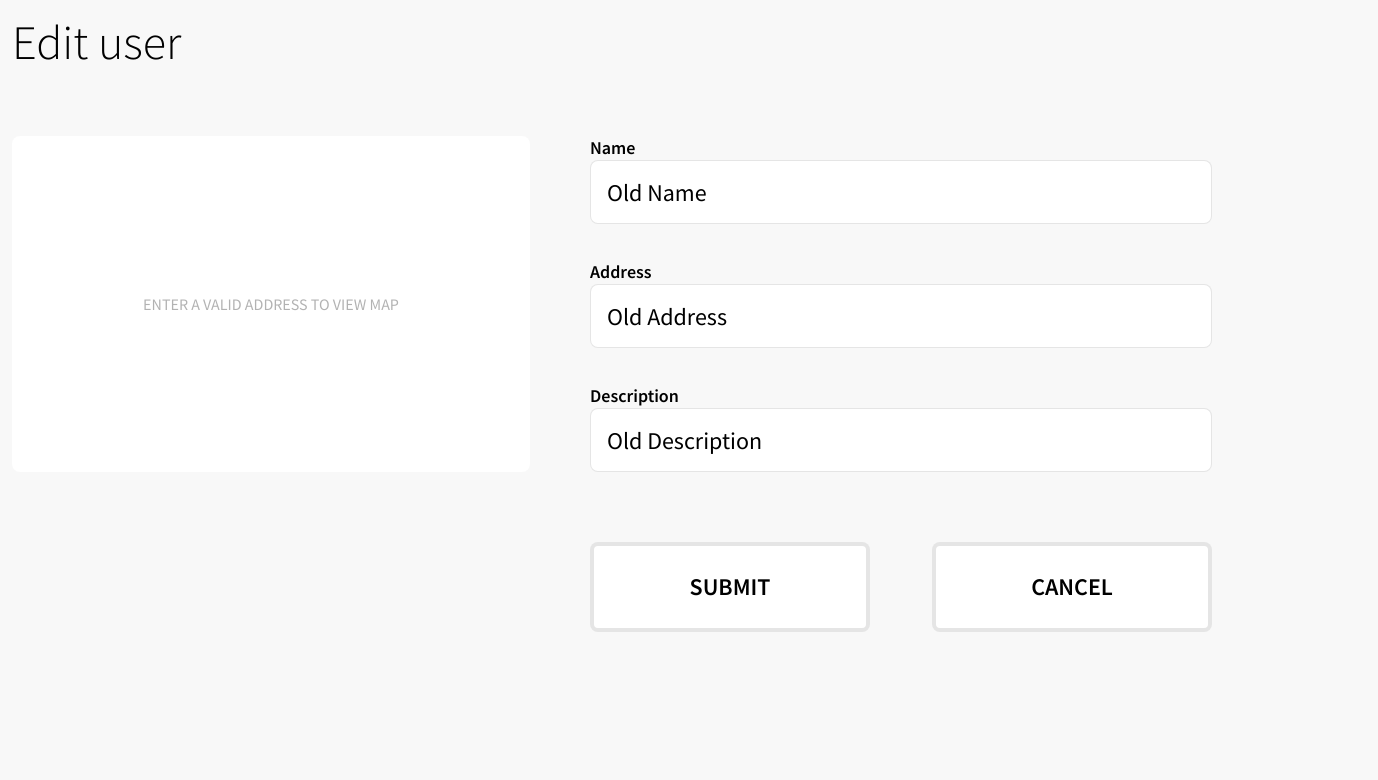
Scenario: prevents an invalid form from being saved
Clear the field with test id "user_field_name": (901, 192) [590,160,1212,224]
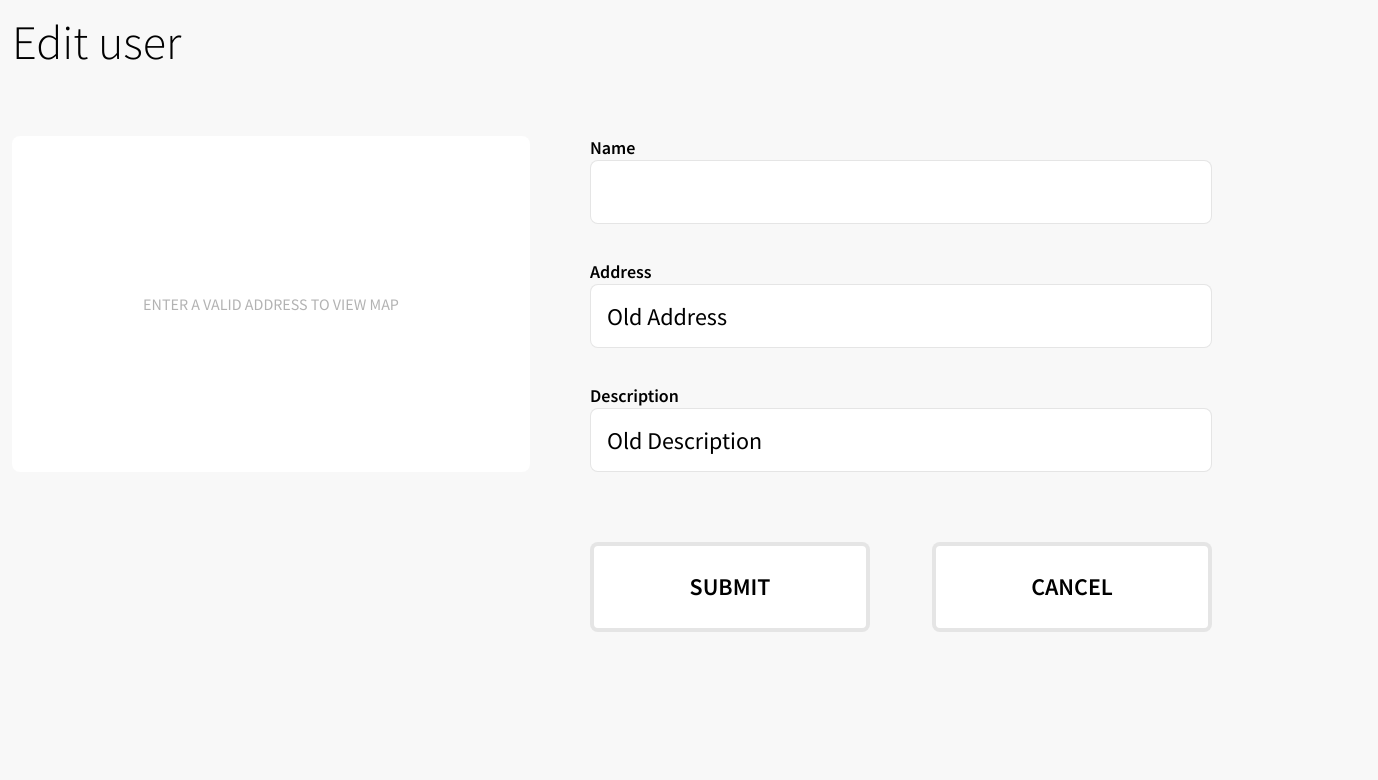
Submit the form with test id "user_form", box [590,136,1212,632]
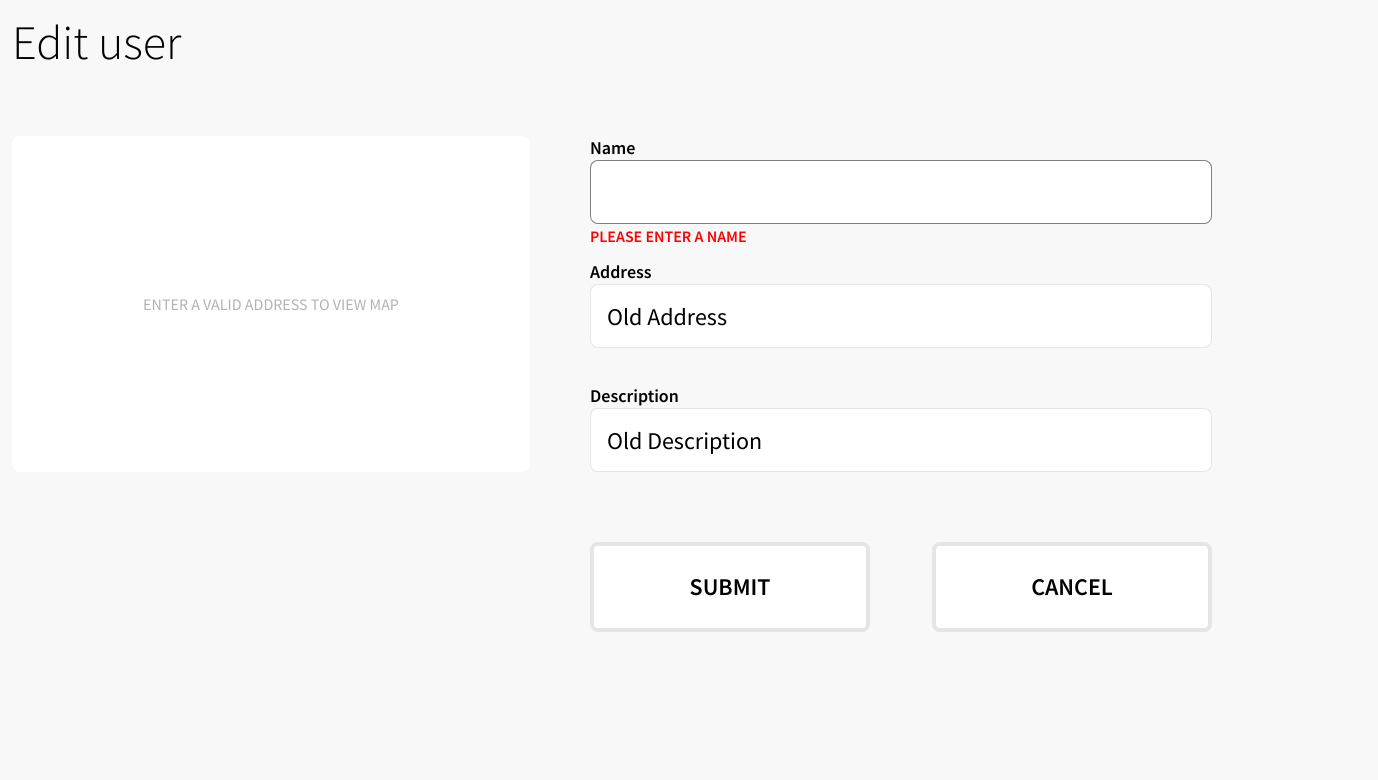
Expected: the text "Please enter a name" is not empty, [590,226,747,246]
